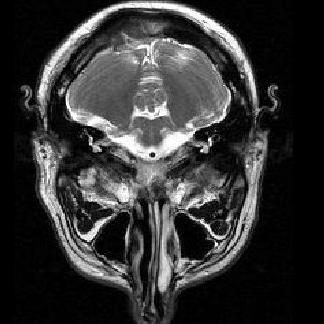Normal_Brain: (19, 1, 304, 324)
